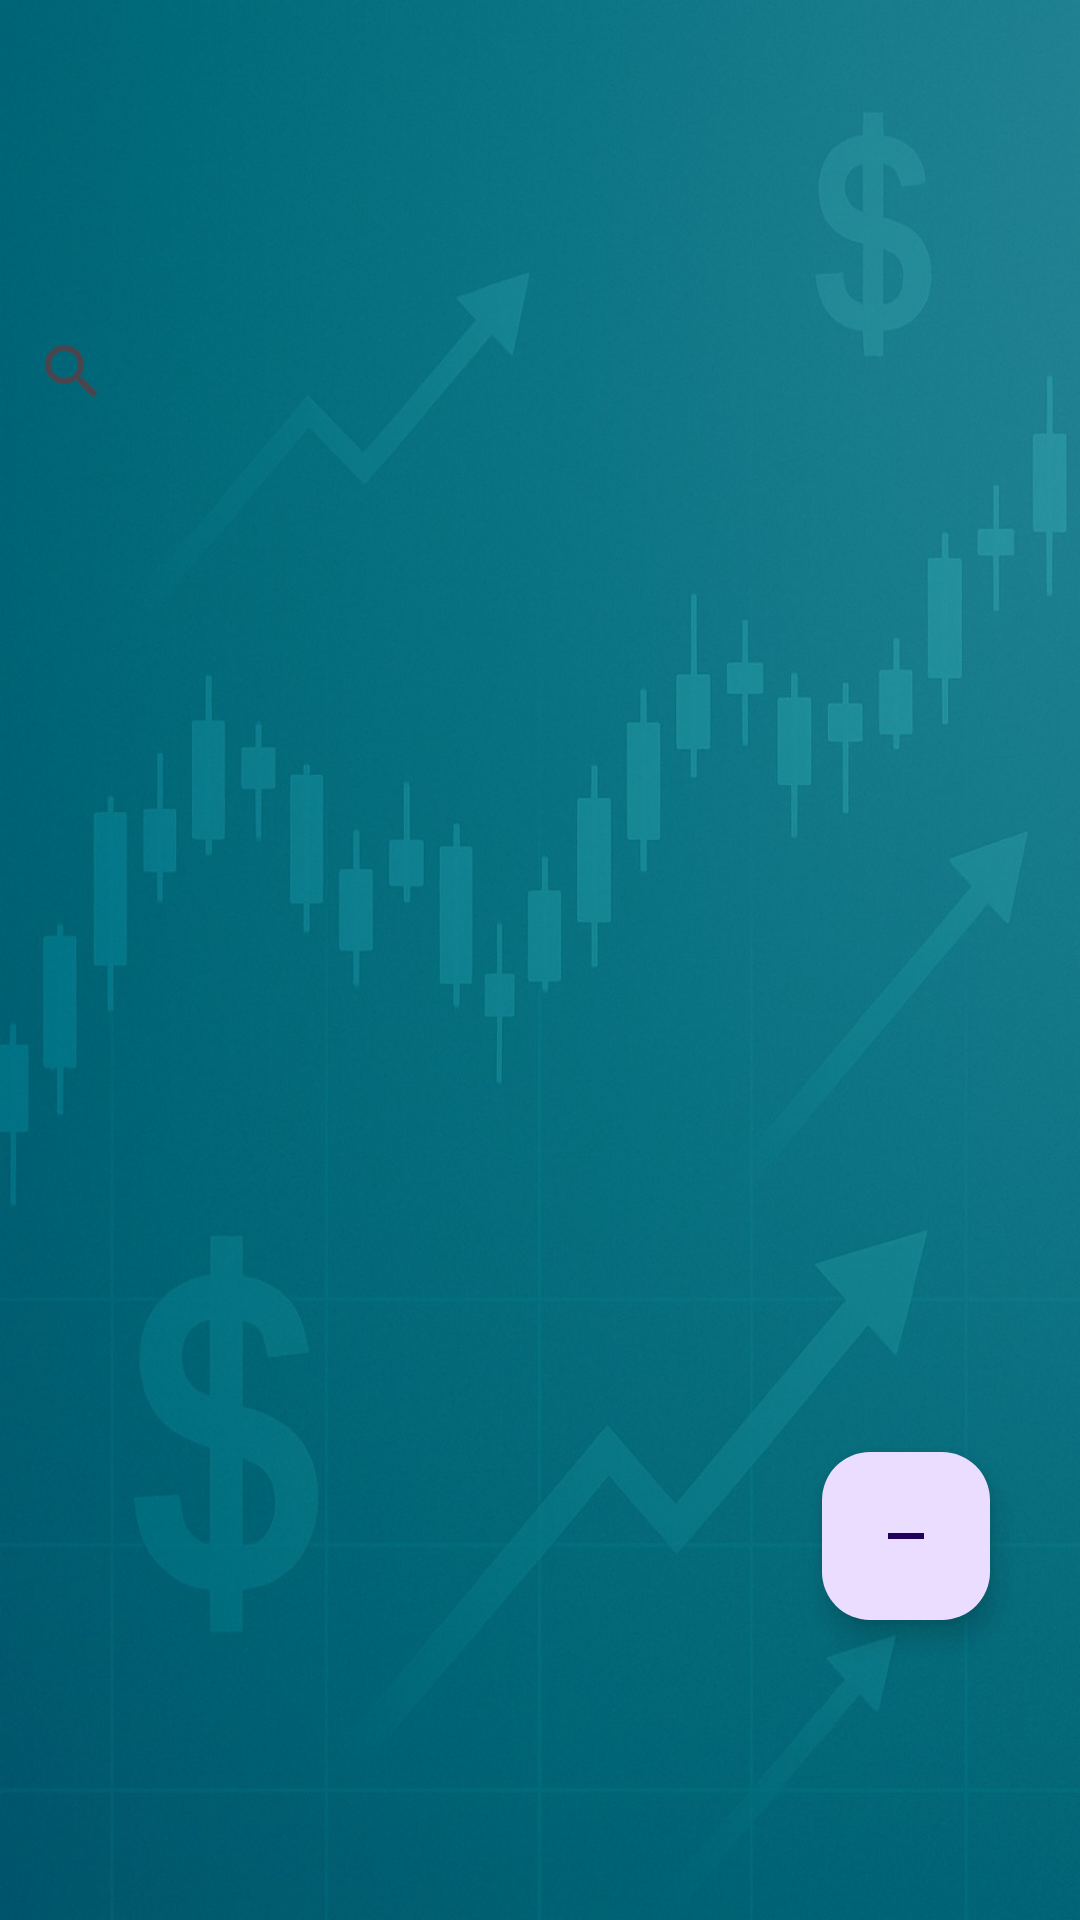

Where icons sit on this 1080px x 1920px app screen, as [x1,y1,x2,y2]:
minus: [822,1452,990,1620]
